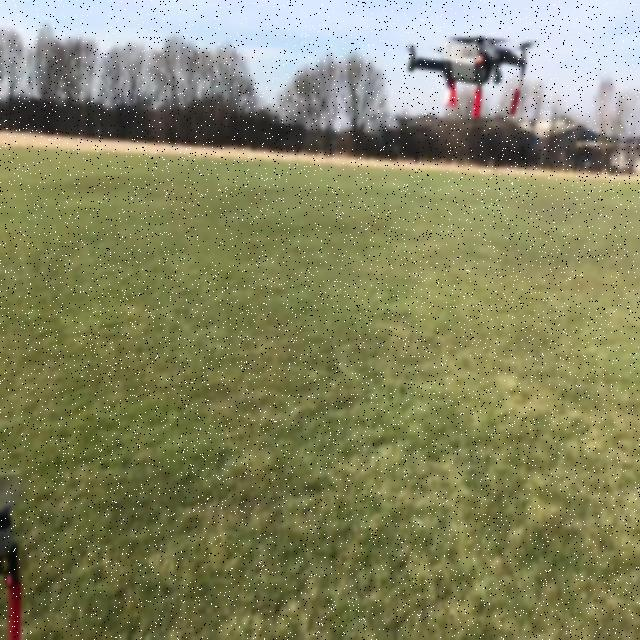UAV: (407, 36, 539, 118)
